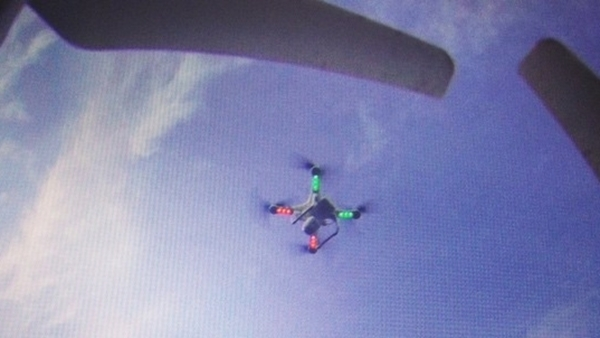drone: (250, 152, 373, 258)
